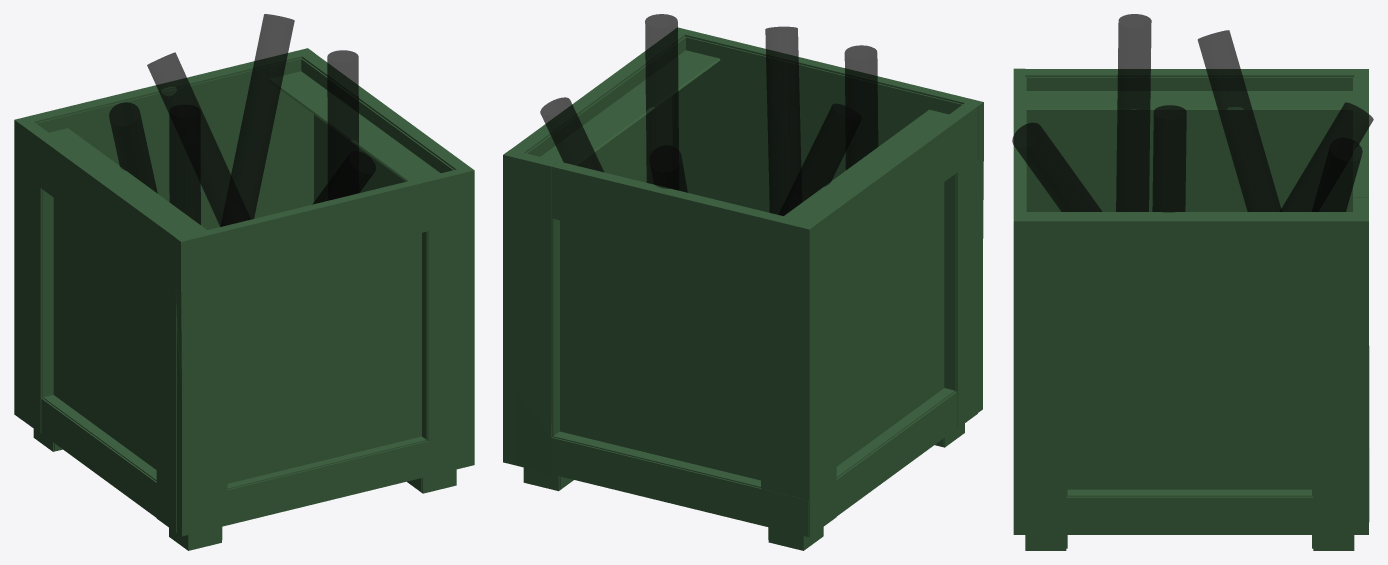
The model's file is UraniumBoxScaled2.0.fbx.
3 views of the same model, side by side, from view 1: azimuth 30°, elevation 25°; view 2: azimuth 150°, elevation 25°; view 3: azimuth 270°, elevation 25° (orthographic). The views are drawn at different scales.
Visible parts, largest first — view 1: pCube2; view 2: pCube2; view 3: pCube2.
Boxes of the visible parts, x1,y1,x2,y2 form: pCube2: [14, 14, 474, 550]; pCube2: [503, 14, 983, 550]; pCube2: [1012, 14, 1373, 550].
Bounding box in the file's own units: 111 × 141 × 111.
